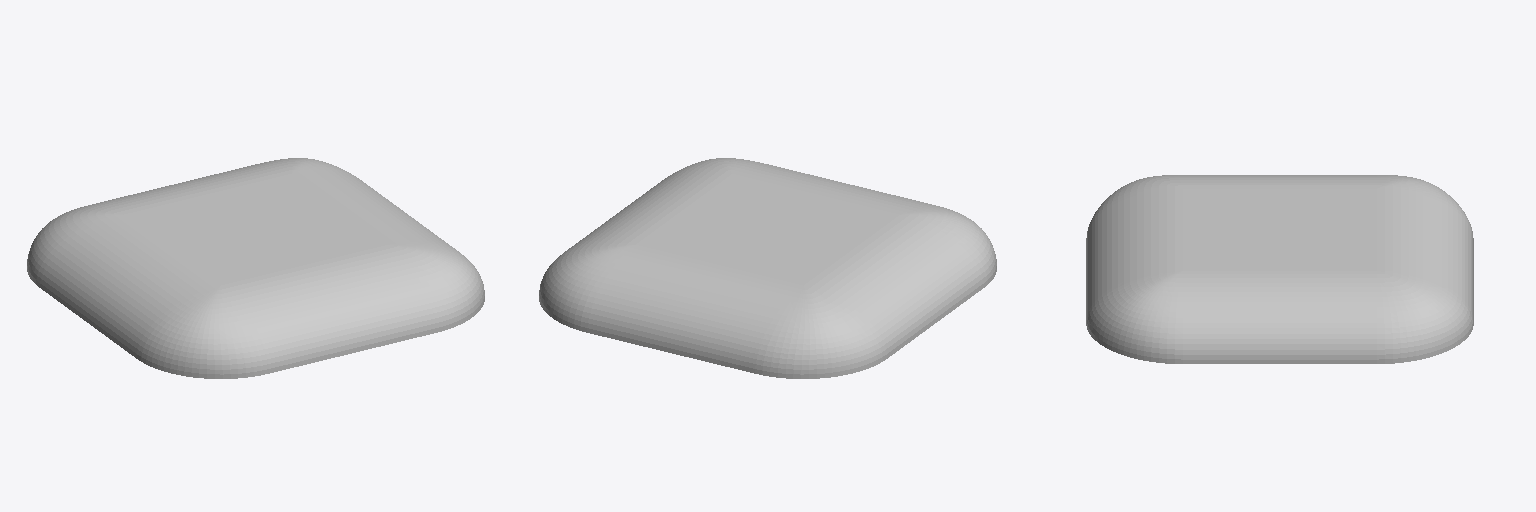
The model's file is ButtonSL.obj.
The picture shows the model from 3 angles: view 1: azimuth 30°, elevation 25°; view 2: azimuth 150°, elevation 25°; view 3: azimuth 270°, elevation 25°; orthographic projection.
Visible parts, largest first — view 1: Button; view 2: Button; view 3: Button.
Part boxes in pixels (x1,y1,x2,y2): Button: (27, 158, 484, 378); Button: (539, 158, 996, 378); Button: (1086, 175, 1473, 363).
Bounding box in the file's own units: 0.2 × 0.03 × 0.2.